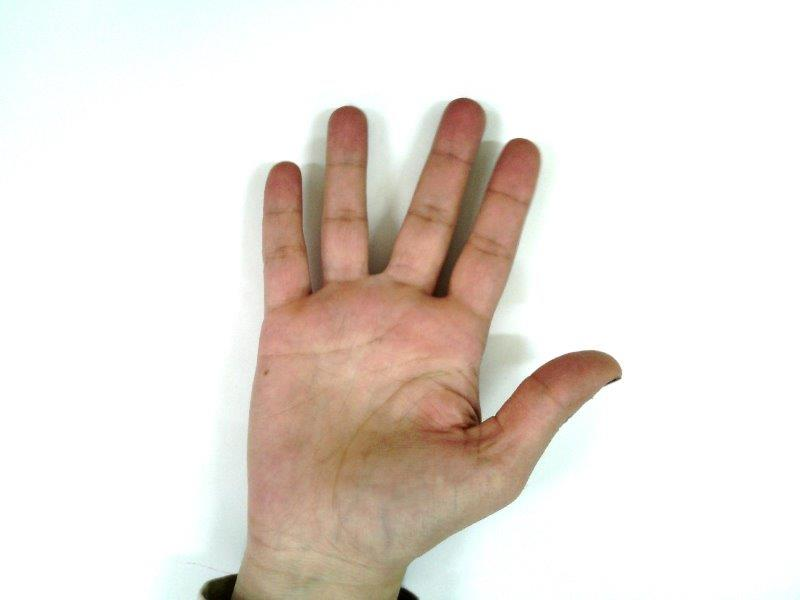hand: (244, 95, 622, 560)
